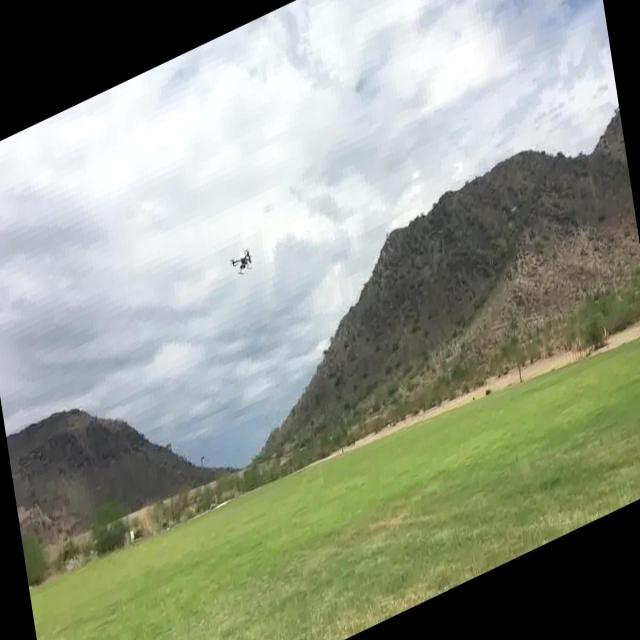drone: (225, 242, 257, 284)
